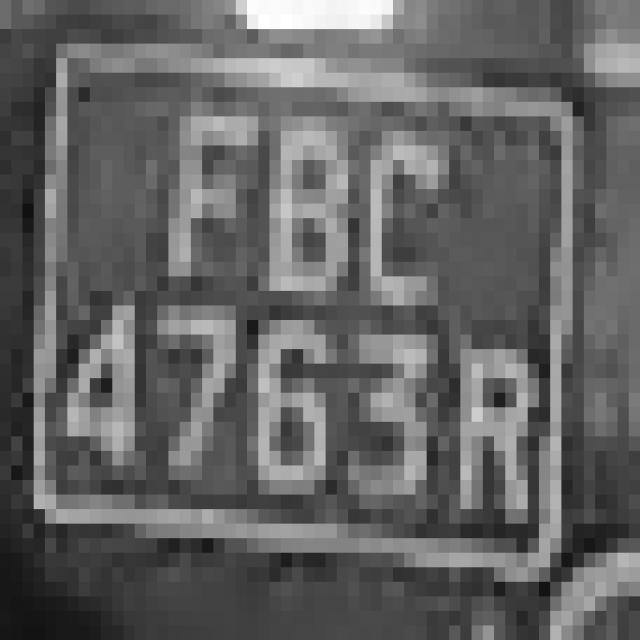3: (326, 306, 426, 568)
4: (45, 233, 180, 509)
6: (202, 291, 337, 509)
7: (146, 247, 225, 538)
B: (213, 116, 337, 364)
C: (359, 116, 449, 349)
F: (124, 58, 247, 306)
R: (438, 306, 561, 568)
